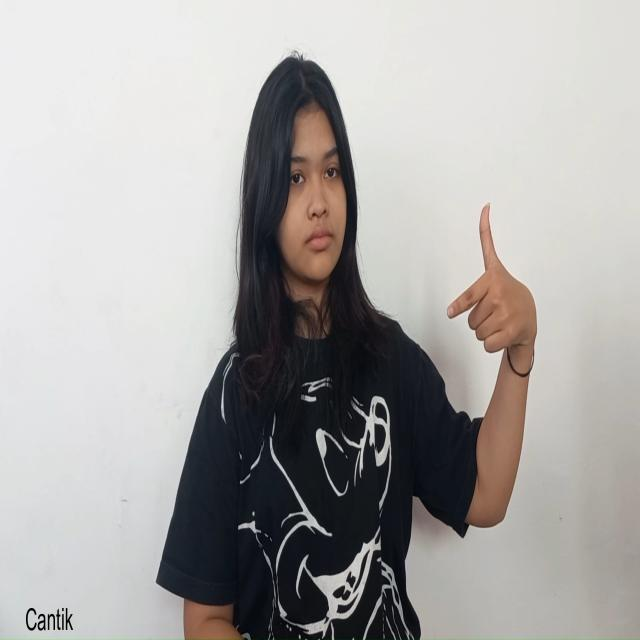Cantik -BISINDO-: (446, 200, 537, 394)
